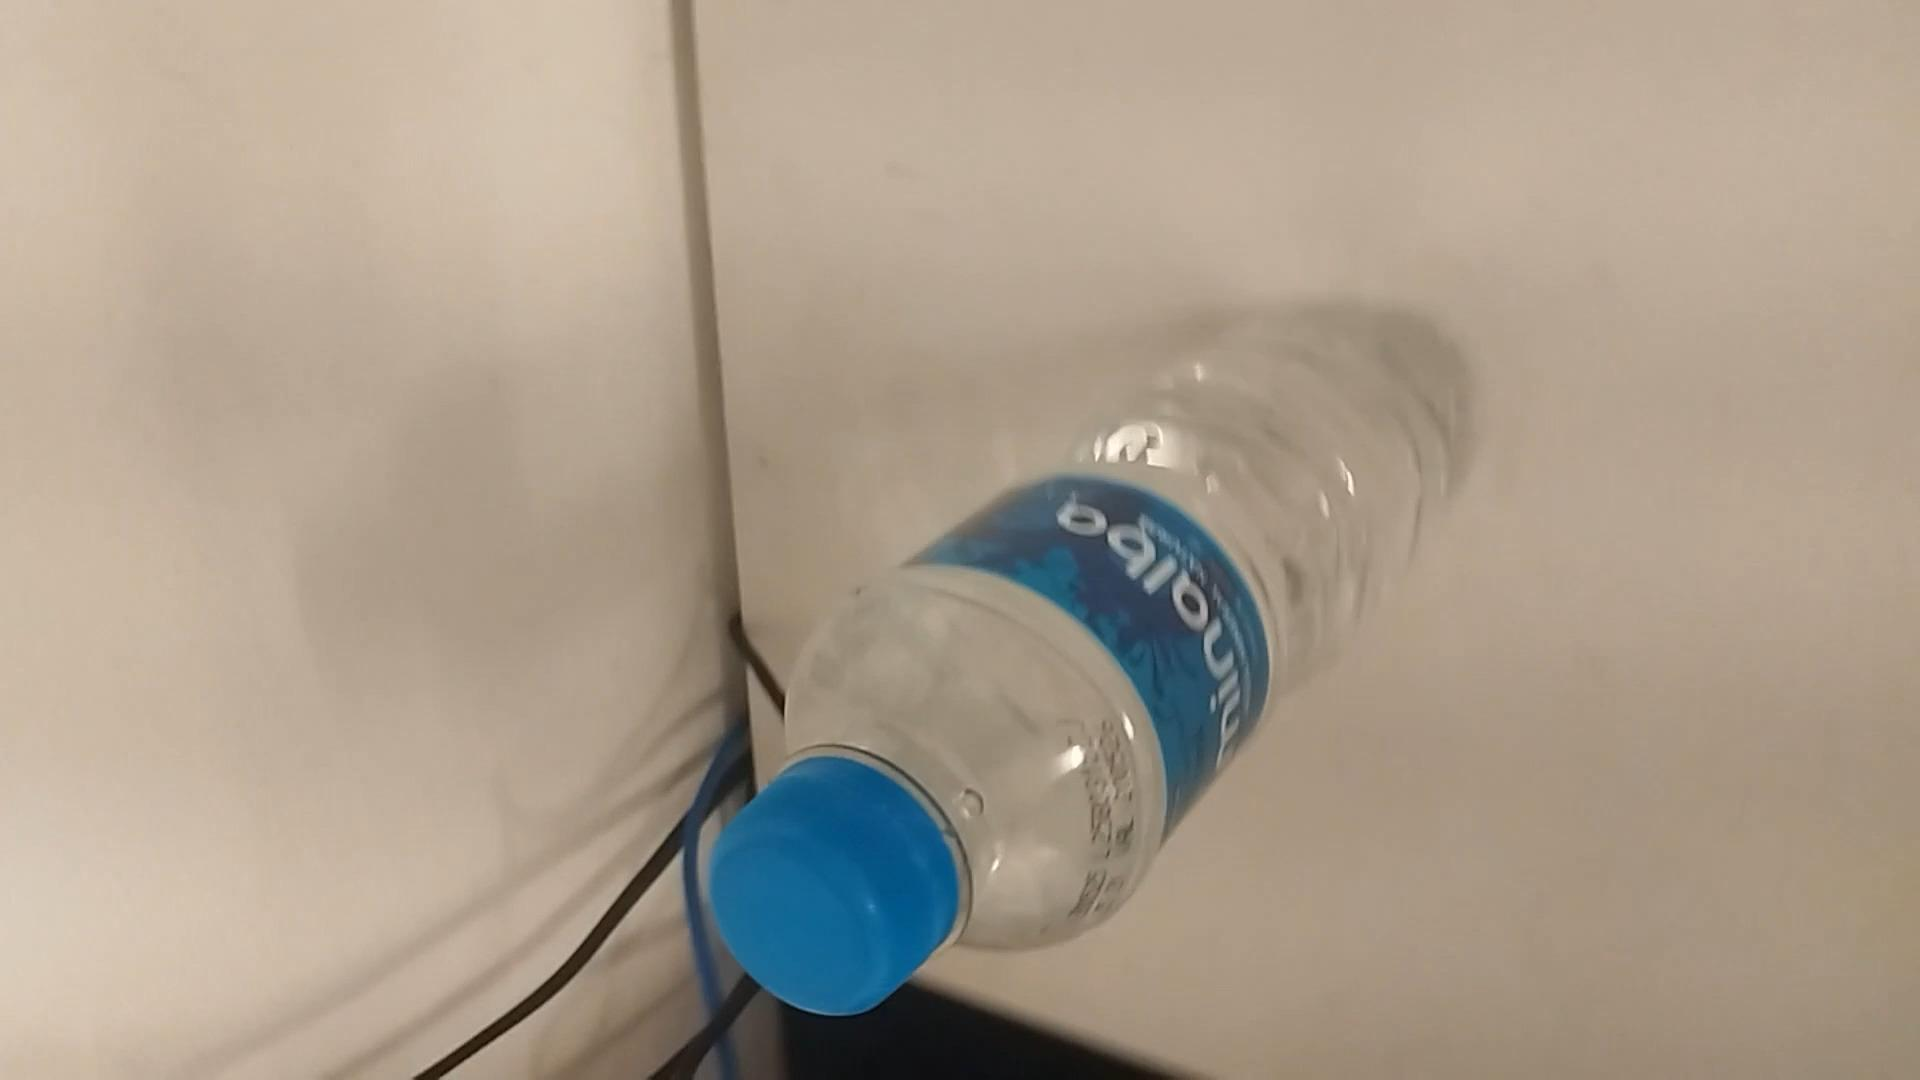agua: (712, 309, 1448, 1011)
